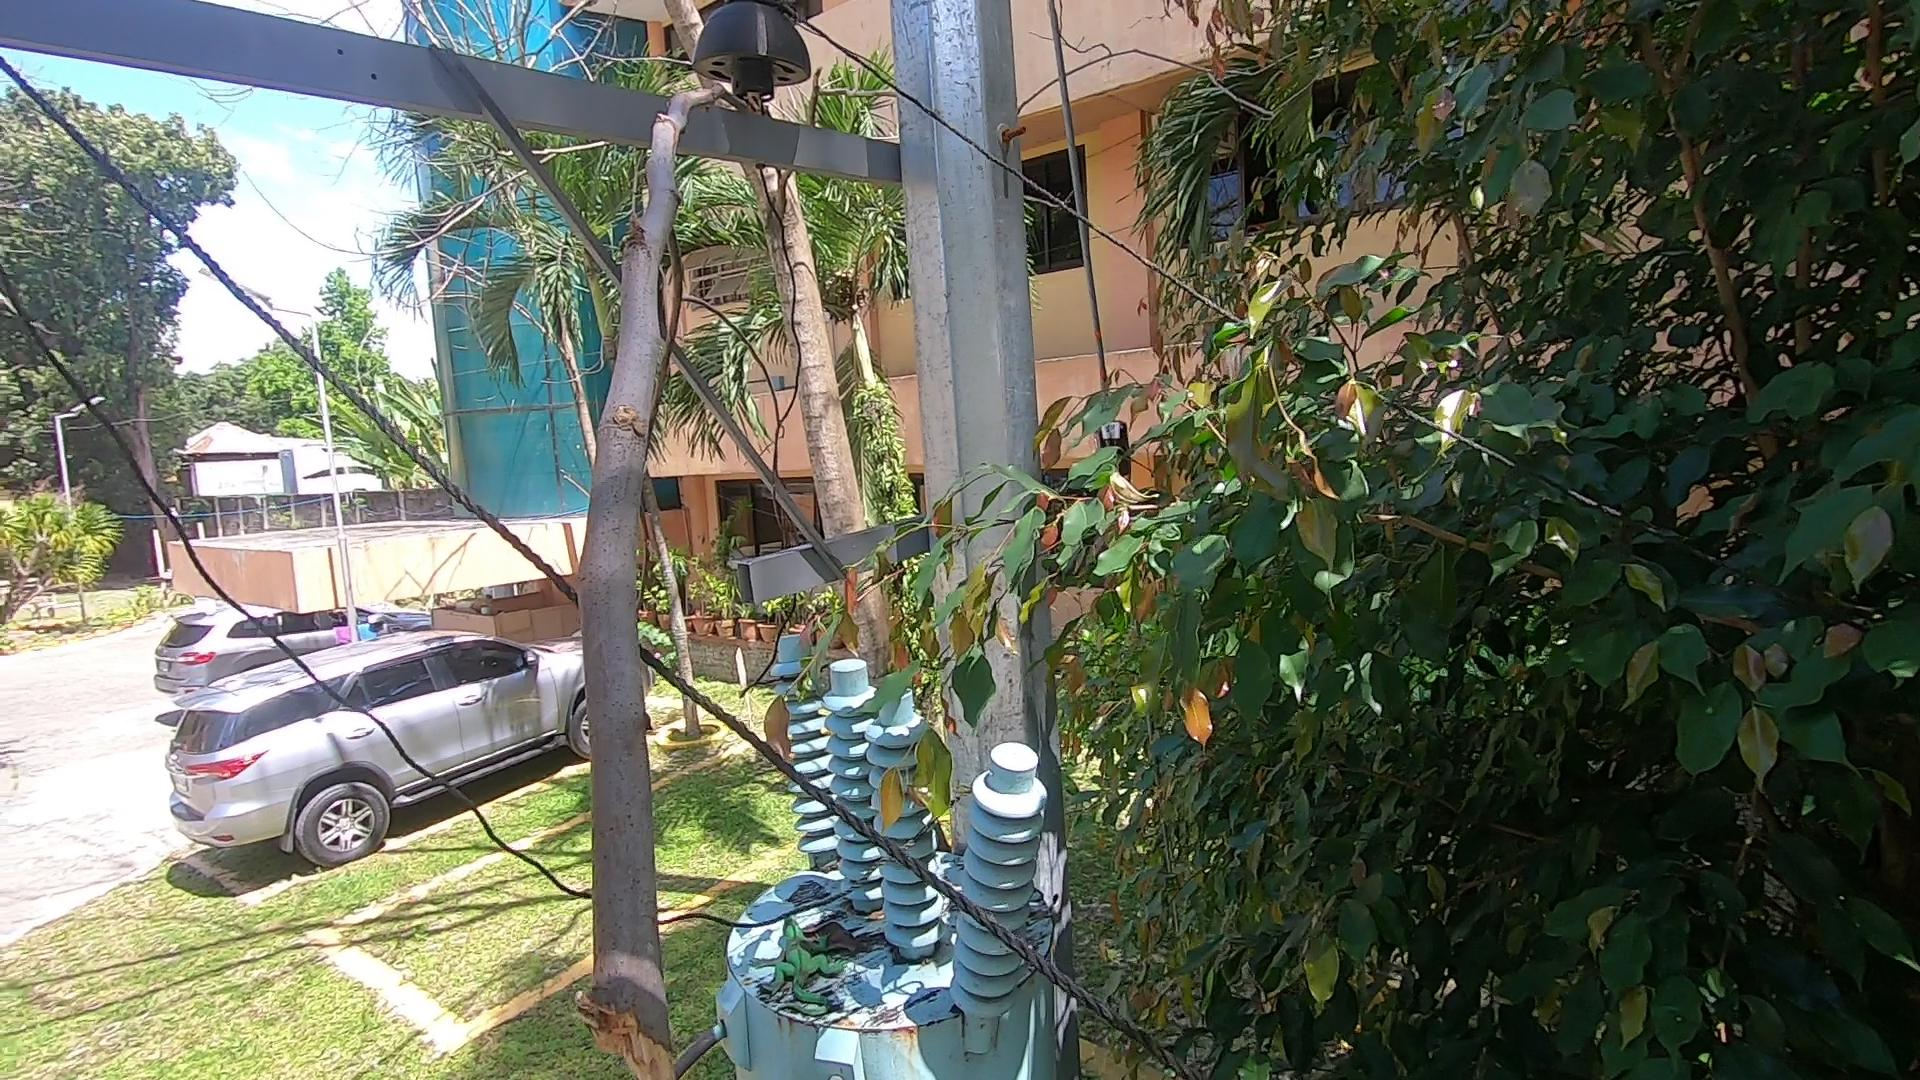branch with leaves: (766, 477, 1060, 855)
leaf: (803, 913, 878, 972), (812, 855, 853, 884)
tree branch: (578, 45, 814, 1065)
